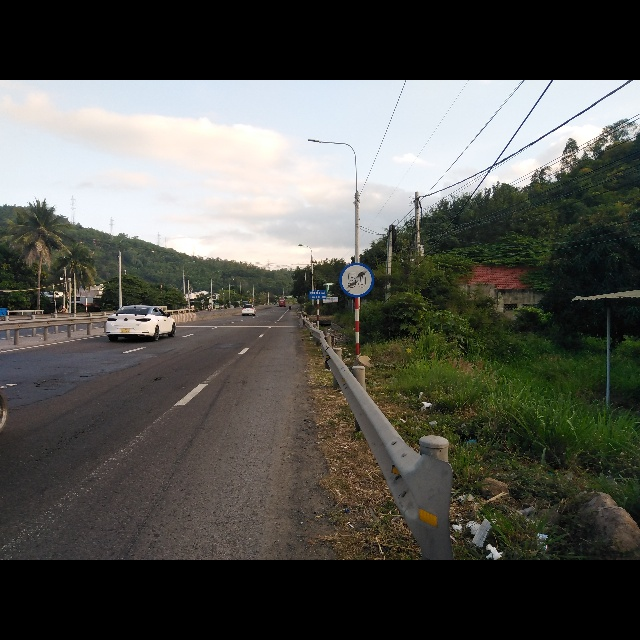Hết hạn chế tốc độ tối đa 50km/h: (338, 262, 374, 297)
